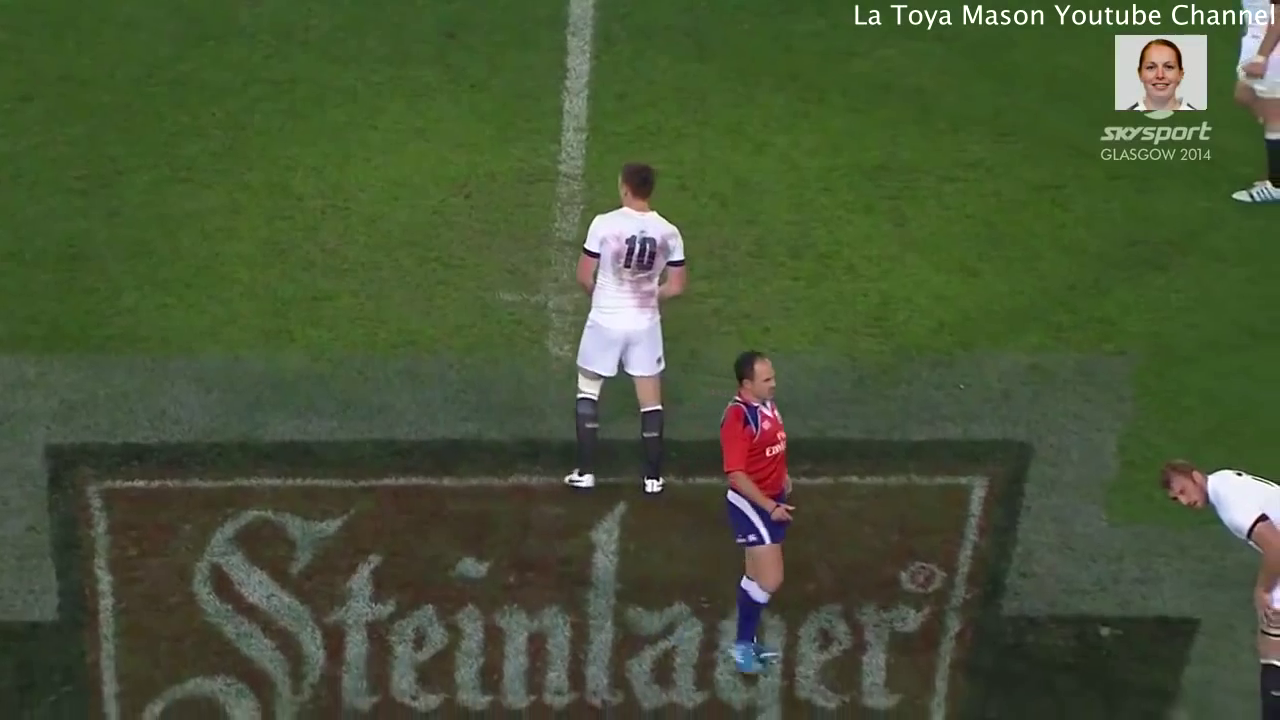player: (557, 154, 683, 507), (1152, 445, 1280, 720), (709, 355, 795, 675)
